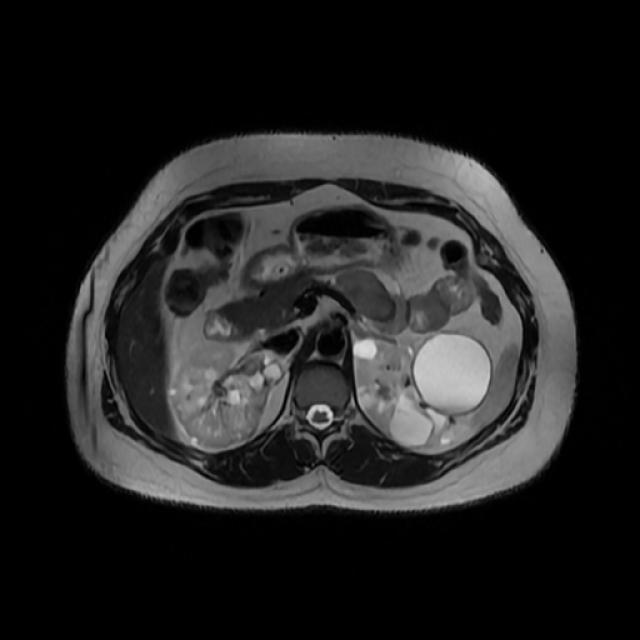sag: (170, 343, 283, 446)
sol: (354, 333, 491, 450)
